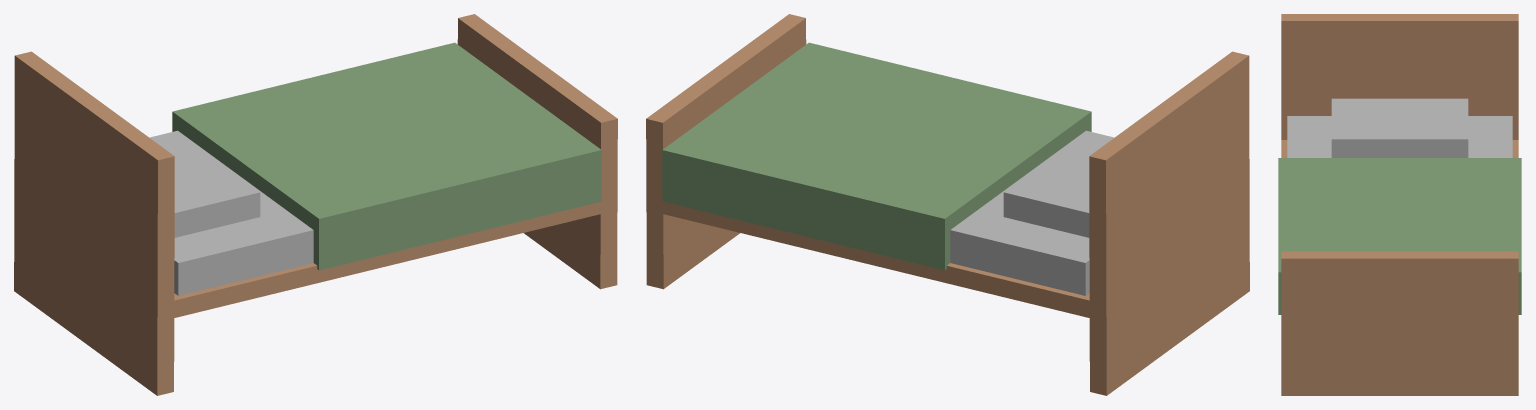
Rendered from bed.fbx.
The picture shows the model from 3 angles, left to right: view 1: azimuth 30°, elevation 25°; view 2: azimuth 150°, elevation 25°; view 3: azimuth 270°, elevation 25°; orthographic projection. The views are drawn at different scales.
Parts seen in each view (by area): view 1: Blanke, Bframe2, Bframe2.001, mattress, Bframe, Pillow; view 2: Blanke, Bframe2, Bframe2.001, mattress, Bframe, Pillow; view 3: Bframe2.001, Blanke, Bframe2, Pillow, mattress, Bframe.
Part boxes in pixels (x1,y1,x2,y2): Blanke: [172, 42, 601, 270]; Bframe2: [14, 51, 174, 395]; Bframe2.001: [457, 14, 617, 289]; mattress: [149, 130, 313, 295]; Bframe: [174, 202, 603, 317]; Pillow: [151, 132, 260, 237]; Blanke: [662, 42, 1091, 270]; Bframe2: [1089, 51, 1249, 395]; Bframe2.001: [646, 14, 806, 289]; mattress: [950, 130, 1114, 295]; Bframe: [663, 202, 1089, 317]; Pillow: [1003, 132, 1112, 237]; Bframe2.001: [1281, 251, 1518, 395]; Blanke: [1278, 158, 1521, 314]; Bframe2: [1281, 14, 1518, 139]; Pillow: [1331, 98, 1468, 157]; mattress: [1287, 116, 1512, 157]; Bframe: [1281, 140, 1518, 157].
Size of the model in its own units: 645 by 317 by 356.
